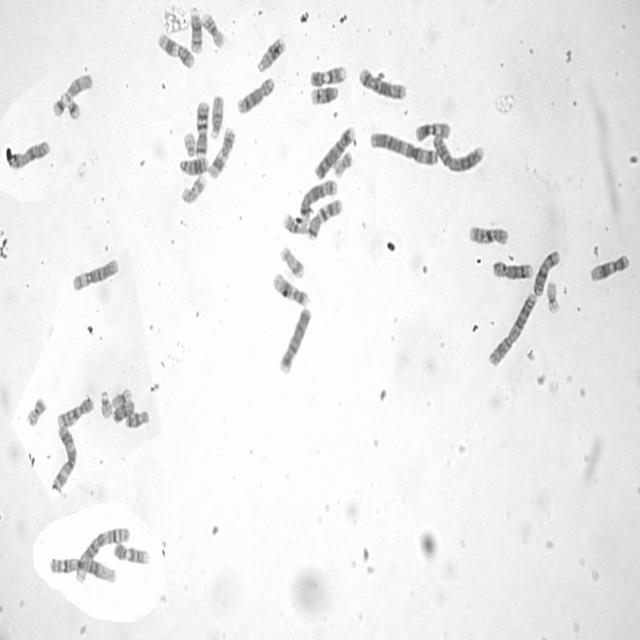A1: (73, 524, 131, 584), (47, 552, 118, 584)
A2: (486, 288, 539, 368), (430, 130, 486, 174)
A3: (367, 126, 441, 168), (48, 420, 78, 492)
B4: (276, 304, 313, 376), (312, 121, 357, 180)
B5: (356, 64, 407, 101), (298, 176, 339, 222)
C10: (54, 392, 96, 429), (468, 219, 508, 247)
C11: (206, 124, 237, 180), (155, 29, 196, 70)
C12: (269, 268, 311, 308), (587, 249, 632, 284)
C6: (70, 254, 120, 293), (415, 117, 455, 142)
C7: (305, 194, 345, 241), (193, 96, 210, 157)
C8: (235, 73, 277, 115), (490, 257, 534, 281)
C9: (110, 539, 150, 566), (307, 61, 348, 87)
D13: (255, 32, 287, 74), (177, 152, 210, 176)
D14: (187, 4, 204, 54), (308, 82, 340, 105)
D15: (61, 70, 94, 100), (208, 91, 225, 140)
E16: (200, 9, 227, 49), (280, 211, 312, 233)
E17: (278, 242, 307, 280), (178, 171, 208, 205)
E18: (110, 396, 137, 424), (123, 406, 151, 430)
F19: (544, 277, 562, 315), (109, 383, 134, 410)
F20: (23, 393, 48, 428), (330, 147, 353, 178)
G21: (63, 92, 82, 121), (50, 91, 68, 118)
G22: (98, 386, 114, 419), (181, 128, 197, 157)
X: (4, 136, 51, 170), (532, 245, 562, 297)
